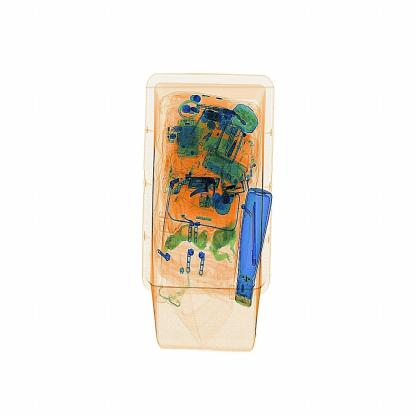pliers: (245, 196, 265, 268)
